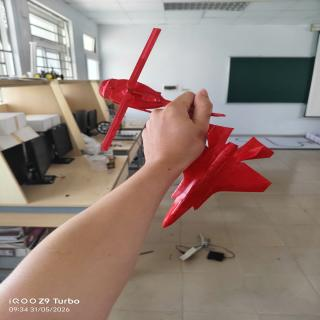Helicopter: (97, 25, 164, 154)
Jet: (161, 124, 276, 230)
